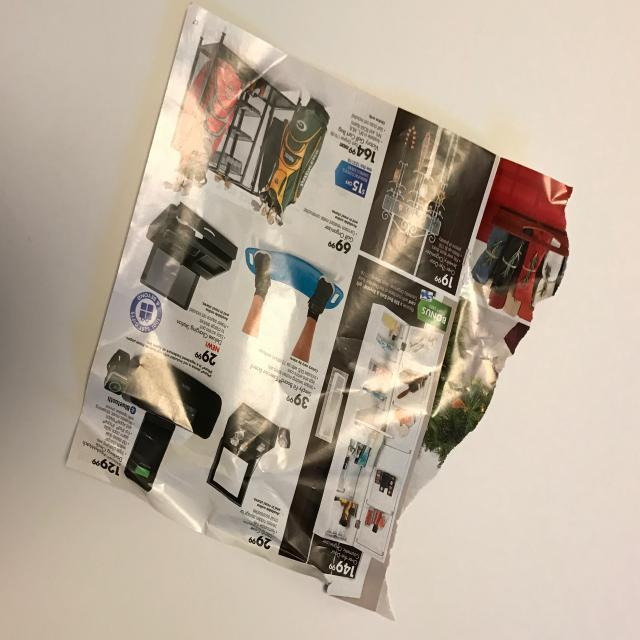paper: (64, 2, 576, 610)
